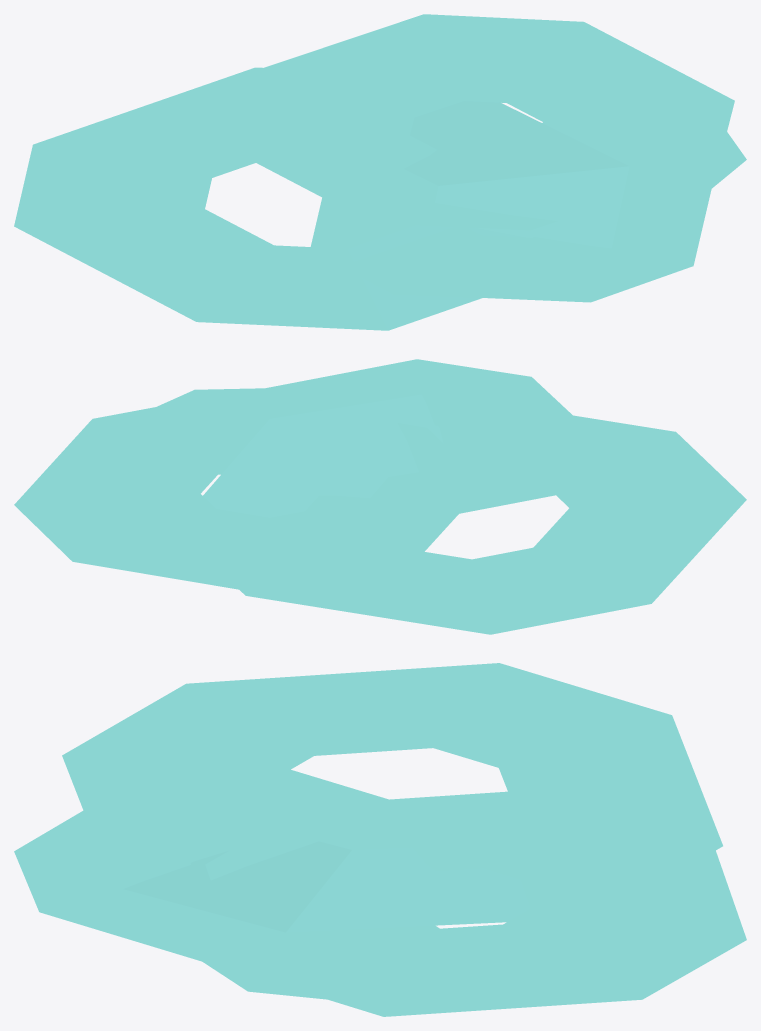
The model's file is fx_Stone_PL.FBX.
3 renders of one model, top to bottom at view 1: azimuth 30°, elevation 25°; view 2: azimuth 150°, elevation 25°; view 3: azimuth 270°, elevation 25°, orthographic. The views are drawn at different scales.
Parts seen in each view (by area): view 1: fx_Stone_1_PL, fx_Stone_3_PL, fx_Stone_2_PL, fx_Stone_4_PL; view 2: fx_Stone_1_PL, fx_Stone_3_PL, fx_Stone_2_PL, fx_Stone_4_PL; view 3: fx_Stone_1_PL, fx_Stone_3_PL, fx_Stone_2_PL, fx_Stone_4_PL.
Part boxes in pixels (box(x1,y1,x2,y2)): fx_Stone_1_PL: box(14, 67, 629, 330); fx_Stone_3_PL: box(219, 14, 734, 230); fx_Stone_2_PL: box(310, 174, 713, 302); fx_Stone_4_PL: box(542, 122, 746, 211); fx_Stone_1_PL: box(202, 394, 746, 634); fx_Stone_3_PL: box(14, 394, 485, 595); fx_Stone_2_PL: box(244, 359, 605, 513); fx_Stone_4_PL: box(157, 387, 344, 474); fx_Stone_1_PL: box(62, 663, 722, 932); fx_Stone_3_PL: box(205, 787, 746, 1016); fx_Stone_2_PL: box(14, 769, 388, 966); fx_Stone_4_PL: box(184, 912, 439, 999).
Bounding box in the file's own units: 196 × 1.56 × 171.
